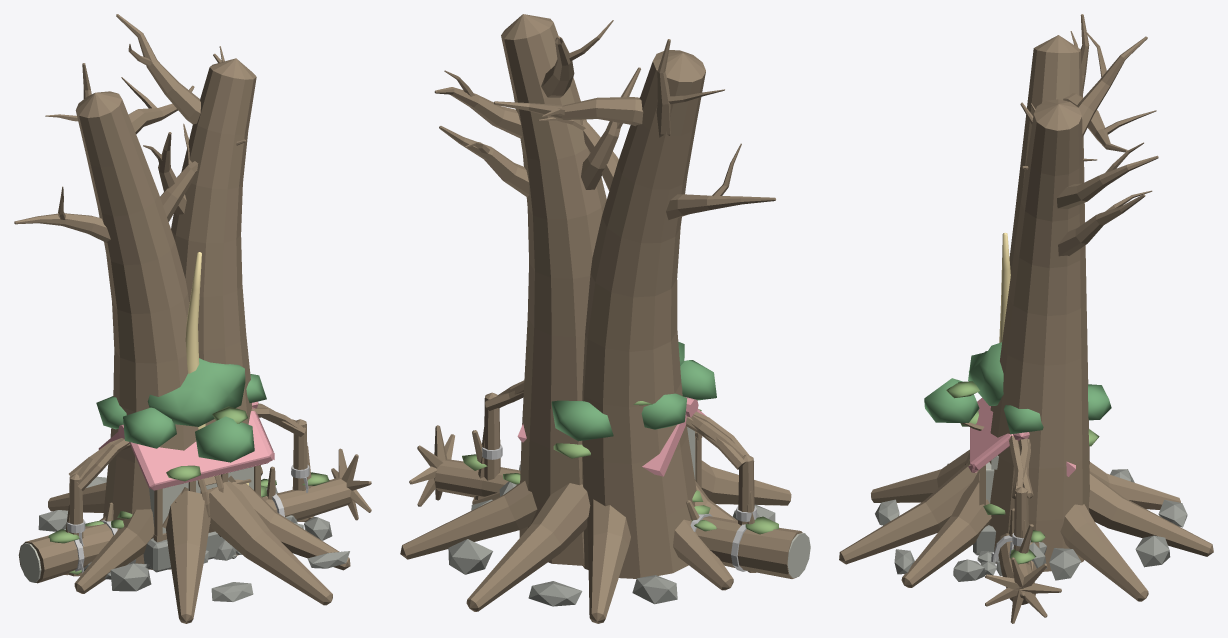
The model's file is CorruptedF31Kit.fbx.
3 renders of one model, left to right at view 1: azimuth 30°, elevation 25°; view 2: azimuth 150°, elevation 25°; view 3: azimuth 270°, elevation 25°, orthographic. The views are drawn at different scales.
Parts seen in each view (by area): view 1: HeartrotSpringTrunk__WOOD, PaleBandTree__FOLIAGE, FelledBandLog__WOOD, HollinWaterMill__ALT, HeartrotSpringTrunk__STONE, HollinStileArch__WOOD, HollinWaterMill__STONE, HeartrotSpringTrunk__GLOW, HollinWaterMill__TRIM, HollinWaterMill__WOOD, HeartrotSpringTrunk__MOSS, FelledBandLog__TRIM (+1 smaller); view 2: HeartrotSpringTrunk__WOOD, FelledBandLog__WOOD, PaleBandTree__FOLIAGE, HollinStileArch__WOOD, HeartrotSpringTrunk__STONE, HollinWaterMill__ALT, FelledBandLog__TRIM, FelledBandLog__MOSS, HeartrotSpringTrunk__MOSS; view 3: HeartrotSpringTrunk__WOOD, PaleBandTree__FOLIAGE, HeartrotSpringTrunk__STONE, FelledBandLog__WOOD, HollinWaterMill__ALT, HollinStileArch__WOOD, HeartrotSpringTrunk__MOSS, HeartrotSpringTrunk__GLOW, FieldstoneWeir__STONE.
Boxes of the visible parts, x1,y1,x2,y2 form: HeartrotSpringTrunk__WOOD: [14, 14, 350, 623]; PaleBandTree__FOLIAGE: [96, 358, 266, 462]; FelledBandLog__WOOD: [18, 446, 371, 583]; HollinWaterMill__ALT: [98, 401, 274, 490]; HeartrotSpringTrunk__STONE: [38, 476, 349, 601]; HollinStileArch__WOOD: [64, 403, 308, 576]; HollinWaterMill__STONE: [143, 531, 237, 572]; HeartrotSpringTrunk__GLOW: [185, 252, 205, 429]; HollinWaterMill__TRIM: [149, 466, 253, 533]; HollinWaterMill__WOOD: [153, 465, 260, 542]; HeartrotSpringTrunk__MOSS: [117, 406, 267, 518]; FelledBandLog__TRIM: [19, 543, 41, 582]; HeartrotSpringTrunk__WOOD: [400, 14, 791, 623]; FelledBandLog__WOOD: [409, 425, 802, 578]; PaleBandTree__FOLIAGE: [551, 342, 716, 441]; HollinStileArch__WOOD: [475, 380, 756, 572]; HeartrotSpringTrunk__STONE: [448, 464, 775, 606]; HollinWaterMill__ALT: [517, 397, 705, 476]; FelledBandLog__TRIM: [787, 533, 810, 577]; FelledBandLog__MOSS: [462, 454, 778, 534]; HeartrotSpringTrunk__MOSS: [553, 401, 703, 501]; HeartrotSpringTrunk__WOOD: [839, 14, 1213, 601]; PaleBandTree__FOLIAGE: [924, 342, 1111, 434]; HeartrotSpringTrunk__STONE: [875, 463, 1187, 581]; FelledBandLog__WOOD: [985, 508, 1061, 623]; HollinWaterMill__ALT: [968, 398, 1075, 476]; HollinStileArch__WOOD: [1008, 434, 1033, 564]; HeartrotSpringTrunk__MOSS: [946, 381, 1099, 514]; HeartrotSpringTrunk__GLOW: [999, 232, 1010, 342]; FieldstoneWeir__STONE: [977, 542, 1046, 575].
Size of the model in its own units: 62.25 by 94.11 by 61.9.
